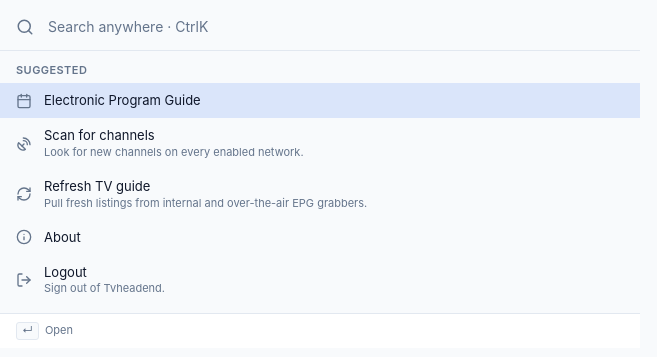
Test: CommandPalette › typing reveals commands not present in the curated empty state
The width and height of the screenshot is (657, 357).
Type "wizard" into the dropdown with class "command-palette__input".
click(335, 27); type("wizard")  # box [46, 16, 624, 38]
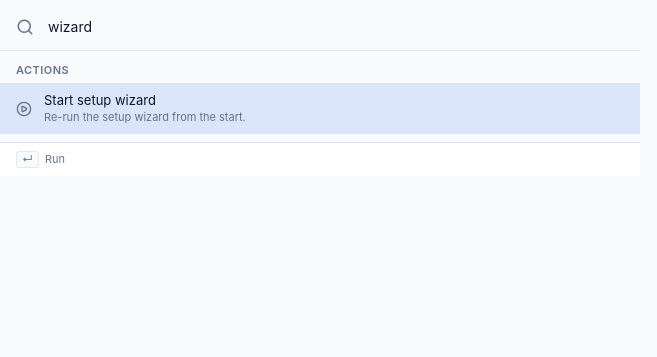
Expected: the text with class "command-palette__row-label" reads "Start setup wizard", [44, 92, 156, 108]
